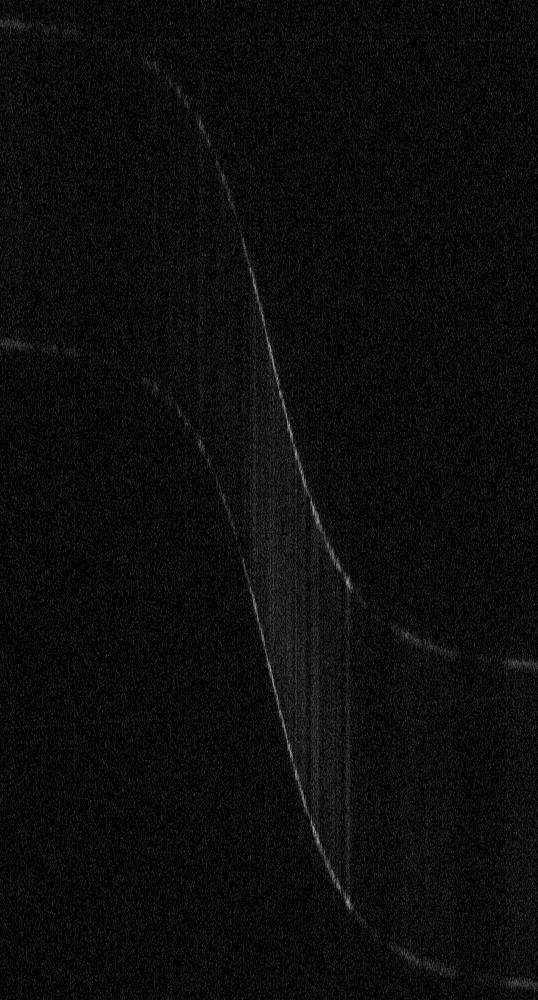signal: (0, 0, 537, 999)
